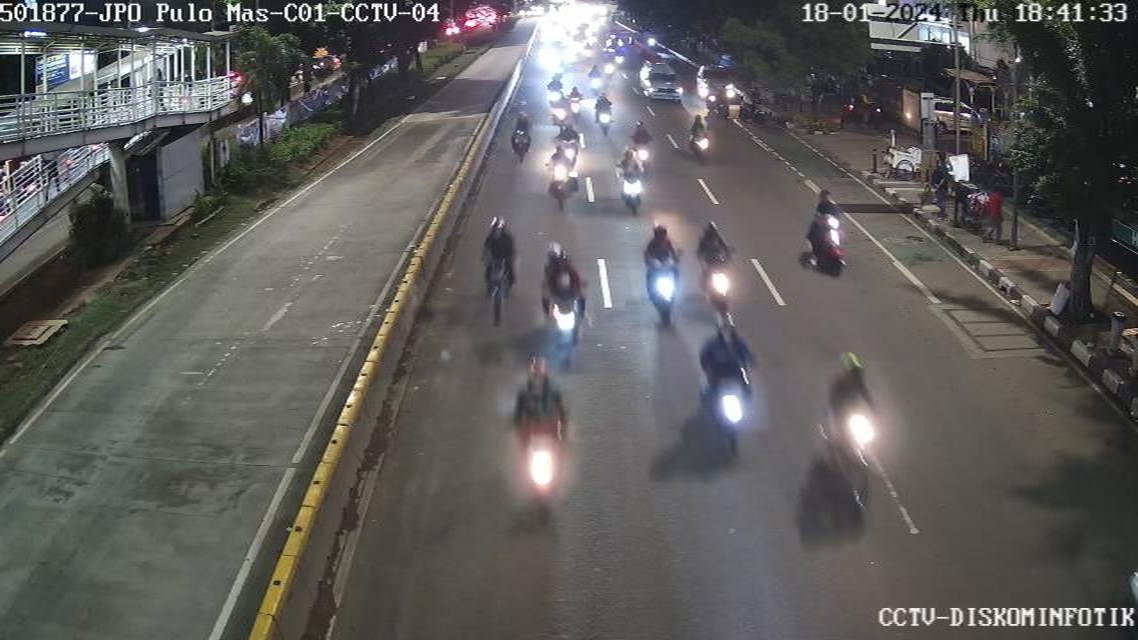Gerobak: (875, 130, 926, 185), (955, 185, 1005, 240)
